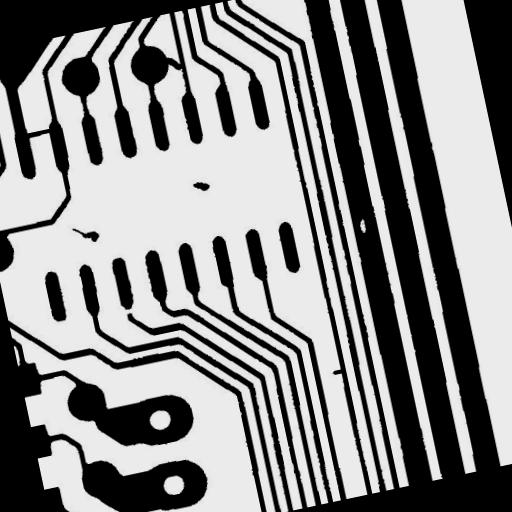copper: (62, 214, 108, 254), (182, 170, 218, 201)
open: (113, 298, 142, 324)
pin-hole: (349, 209, 375, 242)
short: (153, 46, 190, 82), (16, 118, 59, 148)
spur: (322, 359, 354, 383)
